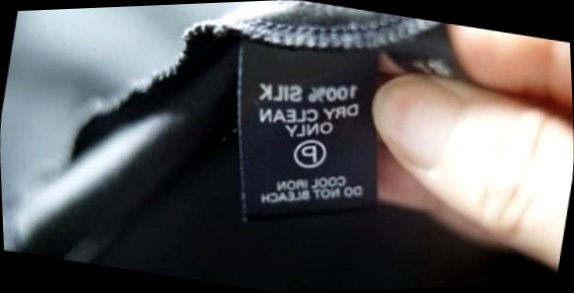dry_clean_any_solvent_except_trichloroethylene: (286, 131, 332, 175)
